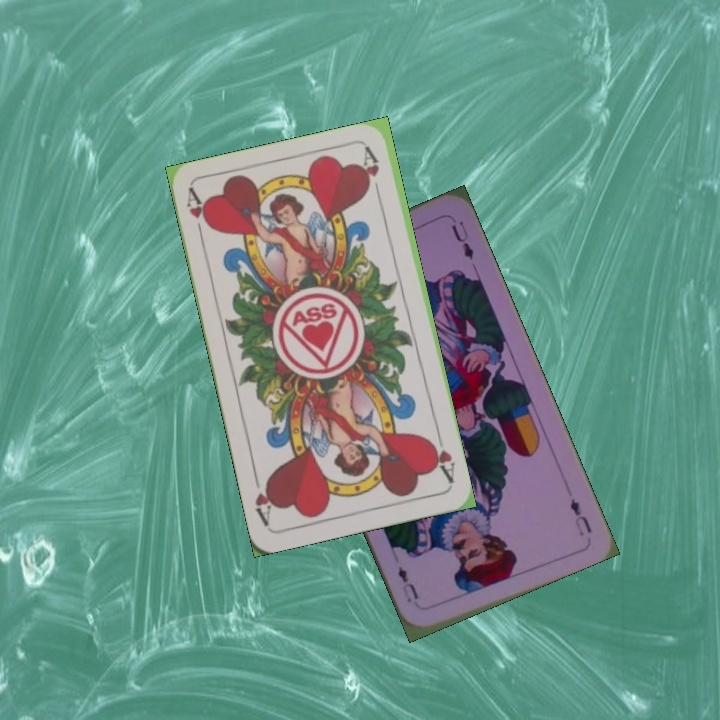EU: (565, 494, 595, 539)
HA: (425, 427, 458, 486), (182, 186, 214, 245)
